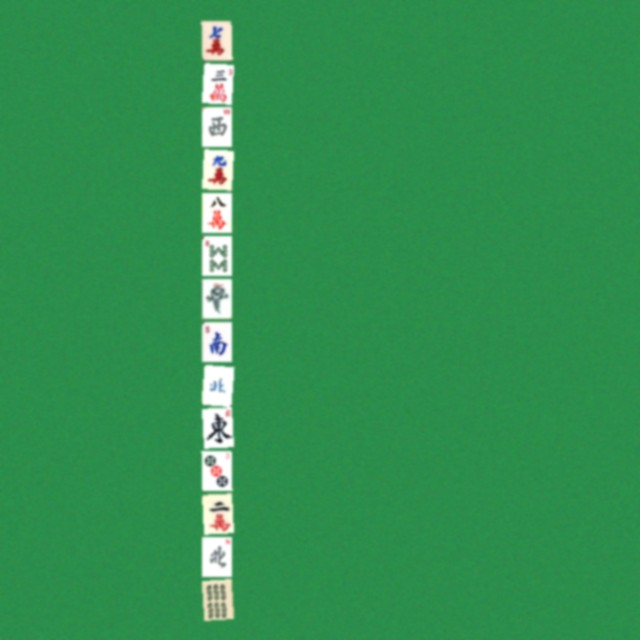tile: (201, 20, 231, 60), (201, 63, 231, 103), (201, 106, 231, 146), (201, 149, 231, 189), (201, 192, 231, 232), (201, 235, 231, 275), (201, 278, 231, 318), (201, 321, 231, 361), (201, 364, 231, 404), (201, 407, 231, 447), (201, 450, 231, 490), (201, 493, 231, 533), (201, 536, 231, 576), (201, 579, 231, 619)
